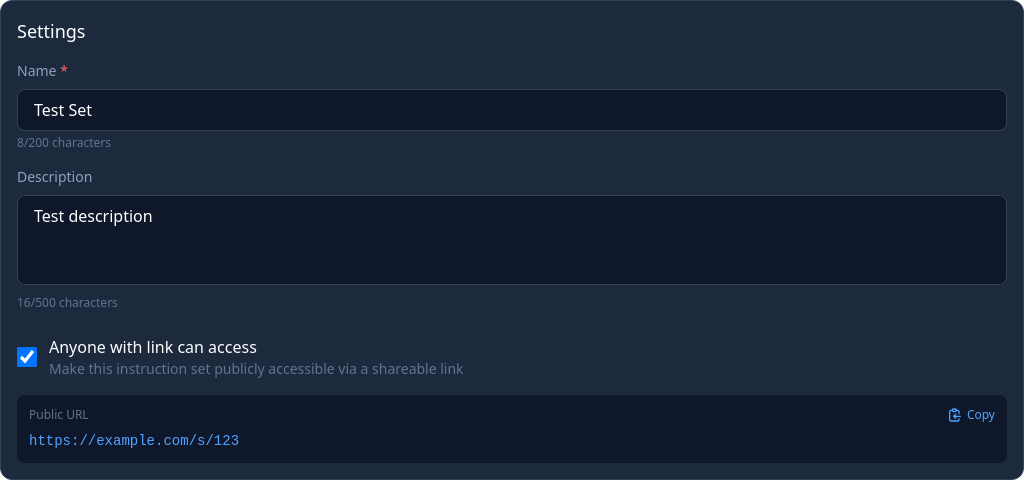
Test: SetSettingsPanel › public URL copy functionality › should show "Copied!" feedback after click
Step 1. Click the button "Copy" → x=971, y=415, box [947,407,995,423]
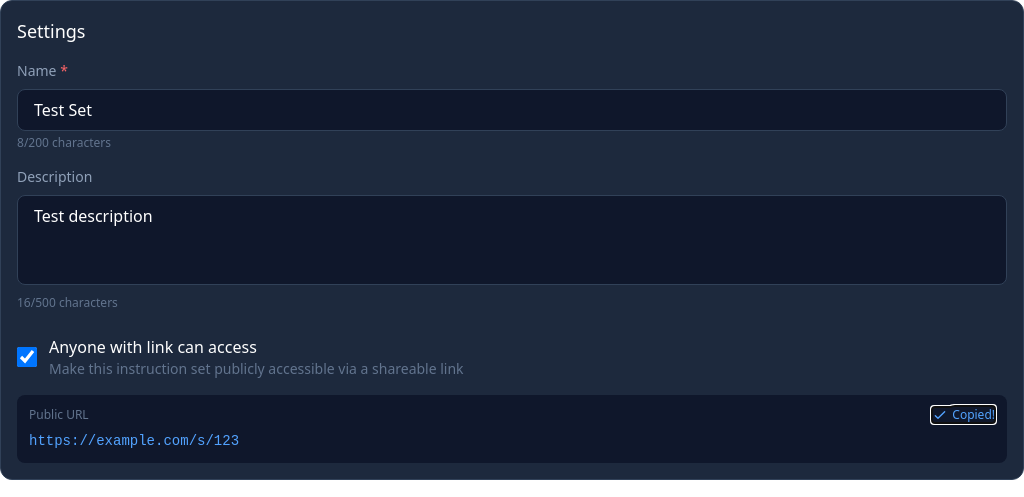
Result: the button "Copied!" is shown at [932,407,995,423]
